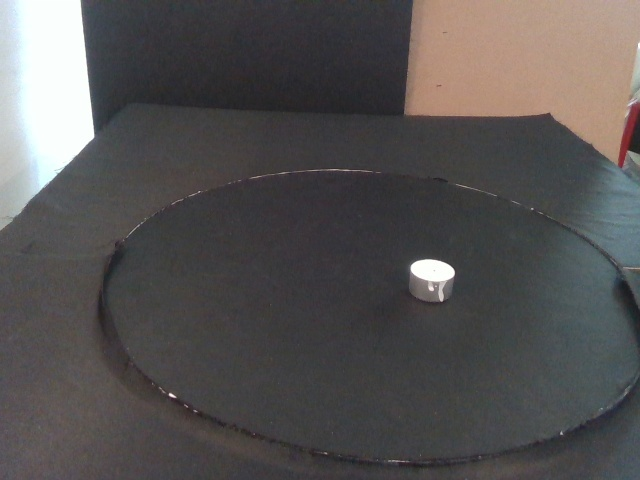candle: (408, 257, 456, 304)
